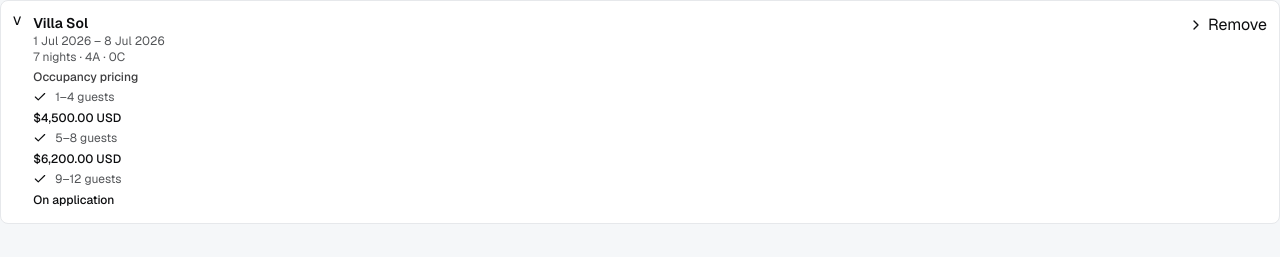
Scenario: QuoteShortlistLine — banded (GAP-044) › shows the none-checked error once every non-POA band is unchecked
What coordinates should you click on to do the following:
click the checkbox named "include the 1–4 guests band"
I would click on:
 (40, 97)
Its box is [33,90,47,104].
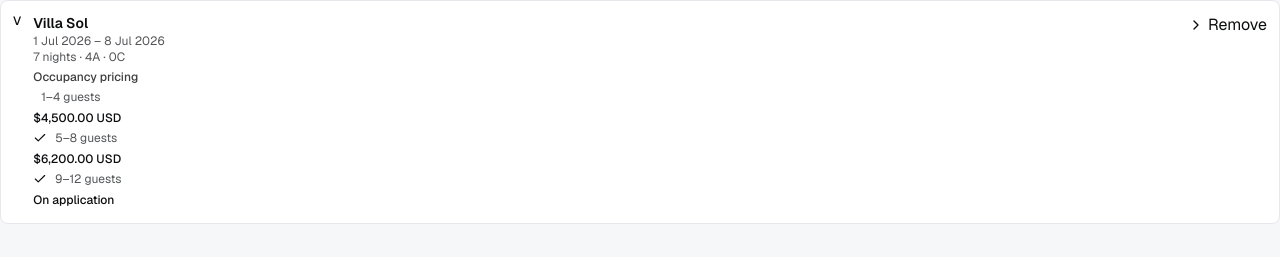
What coordinates should you click on to do the following:
click the checkbox named "include the 5–8 guests band"
I would click on:
 (40, 138)
Its box is [33,131,47,145].
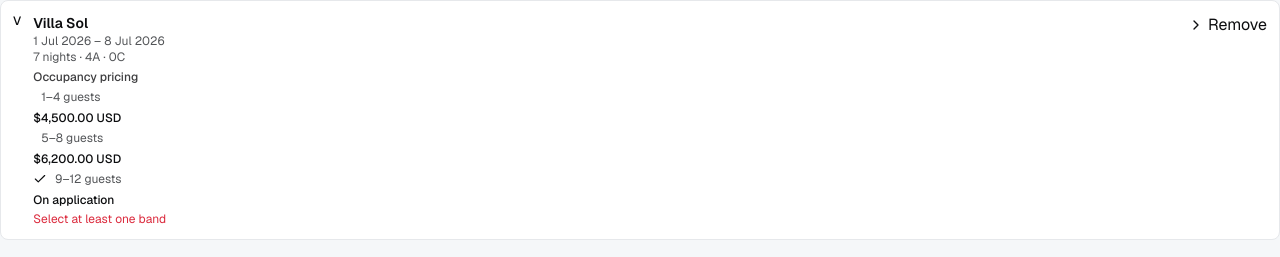
Check: the text "Select at least one band" is shown, box [33,211,166,227]
